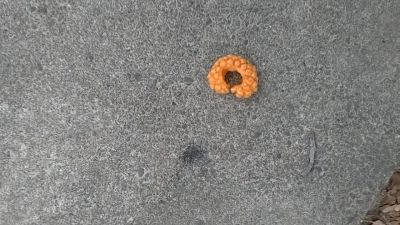eggs: (208, 53, 260, 100)
